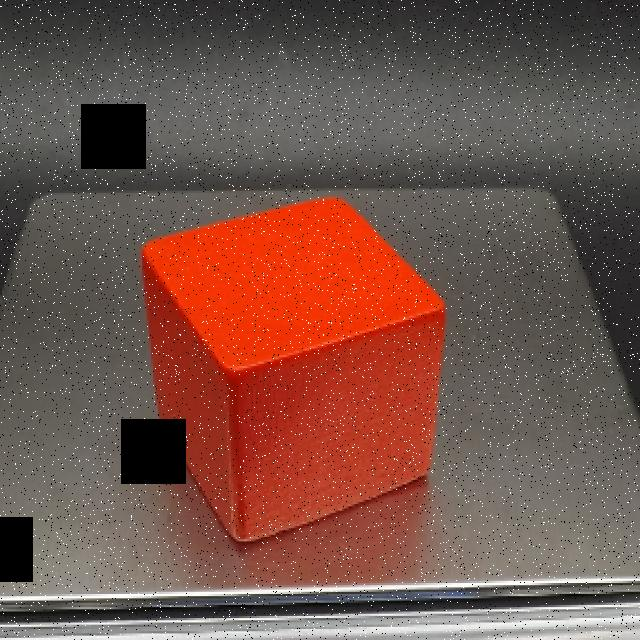red cube: (140, 190, 448, 543)
